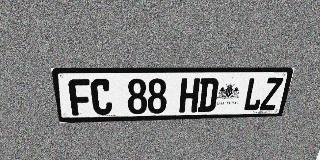8: (147, 78, 167, 114), (127, 79, 147, 114)
C: (90, 79, 113, 115)
D: (197, 78, 219, 112)
F: (68, 79, 92, 116)
H: (179, 78, 200, 113)
L: (242, 78, 266, 111)
Z: (259, 77, 284, 110)
